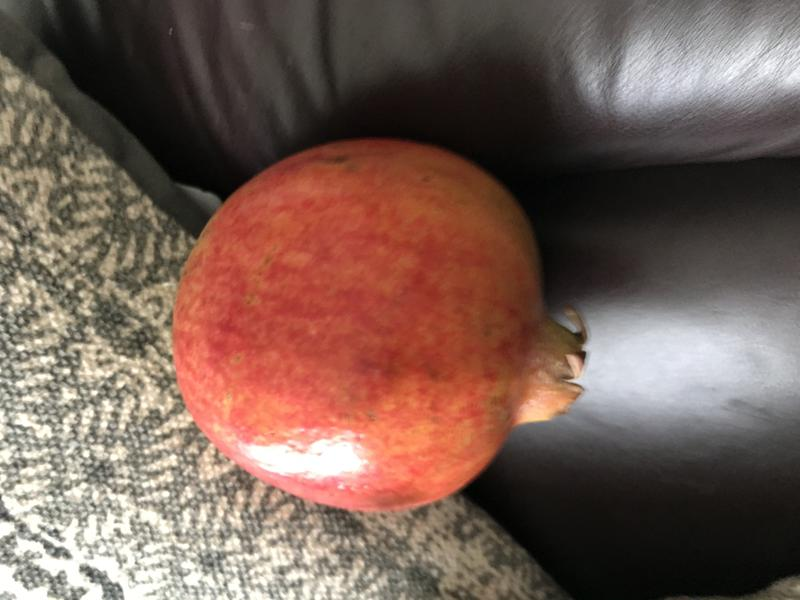pomegranate: (149, 124, 612, 540)
